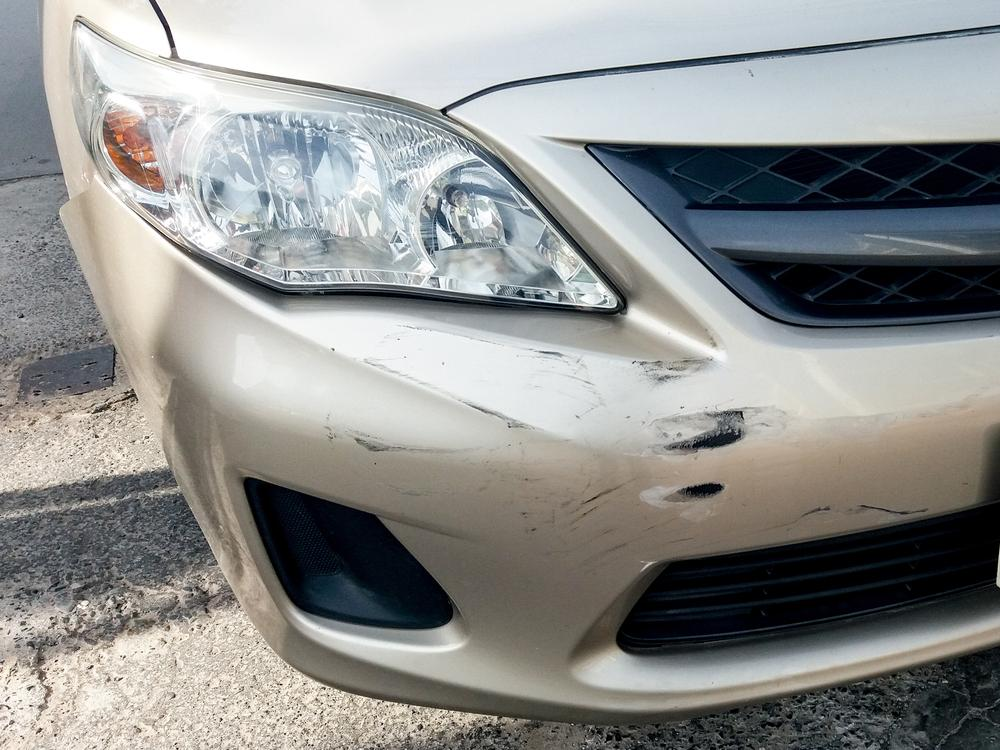scratch: (319, 319, 798, 559), (775, 497, 935, 528)
